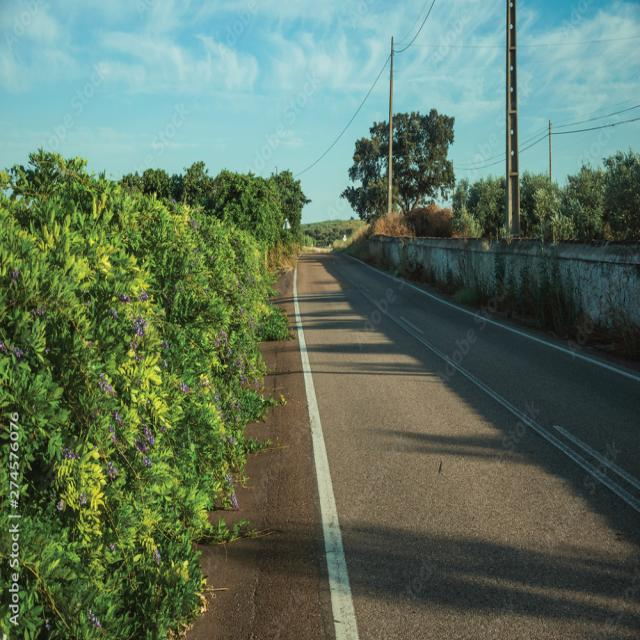Pothole: (249, 325, 342, 640)
